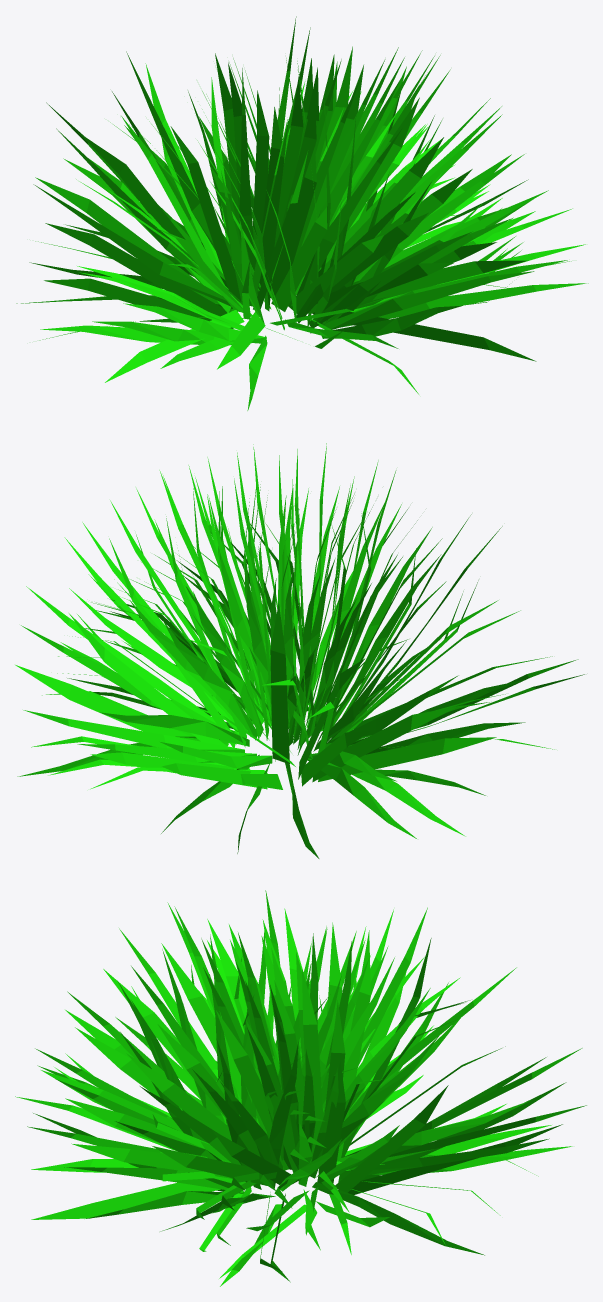
Rendered from SM_Grass_A.fbx.
3 views of the same model, one above another, from view 1: azimuth 30°, elevation 25°; view 2: azimuth 150°, elevation 25°; view 3: azimuth 270°, elevation 25° (orthographic). The views are drawn at different scales.
Parts seen in each view (by area): view 1: SM_Grass_A; view 2: SM_Grass_A; view 3: SM_Grass_A.
Boxes of the visible parts, x1,y1,x2,y2 form: SM_Grass_A: (16,16,588,410); SM_Grass_A: (15,443,584,858); SM_Grass_A: (15,890,586,1286).
Bounding box in the file's own units: 0.7426 × 0.4205 × 0.772.
